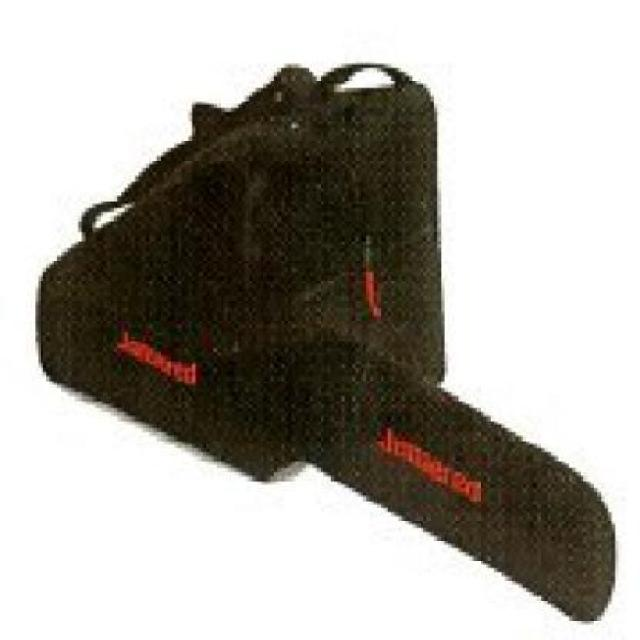Chainsaw: (37, 62, 618, 626)
